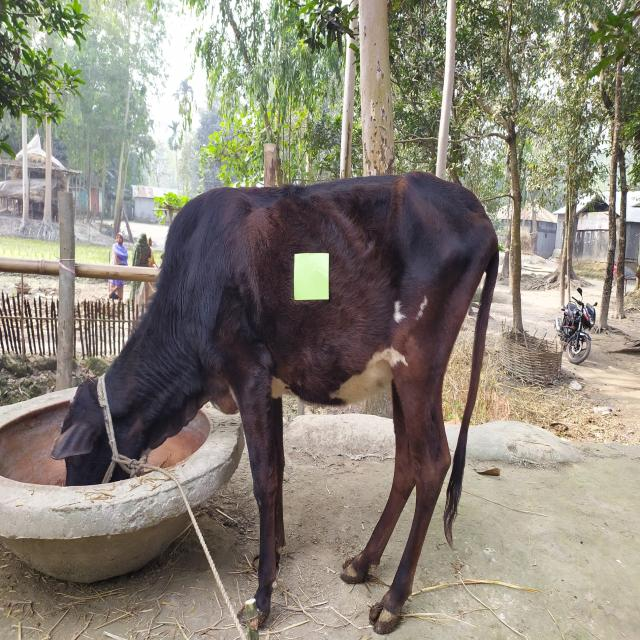badan_sapi: (193, 177, 491, 411)
sapi: (43, 168, 515, 634)
